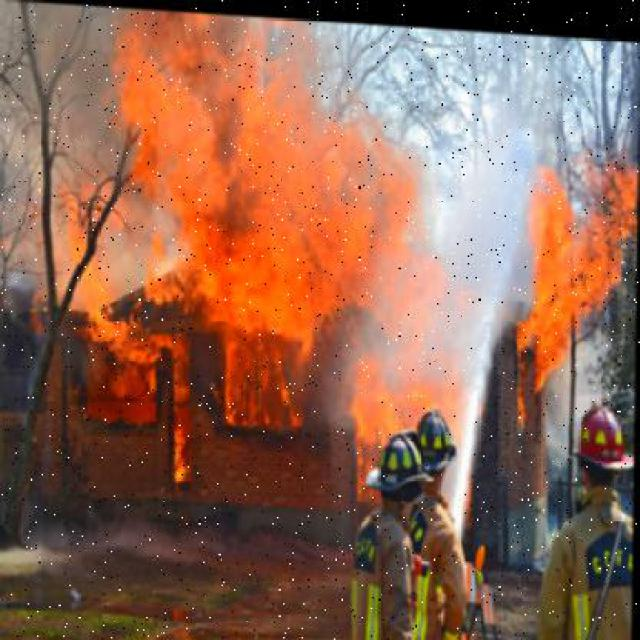fire: (112, 7, 455, 404)
